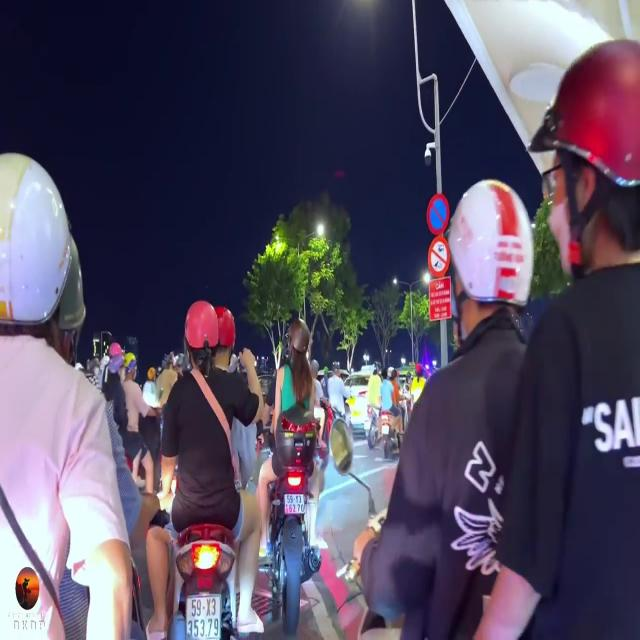bien_trang: (184, 591, 219, 640)
